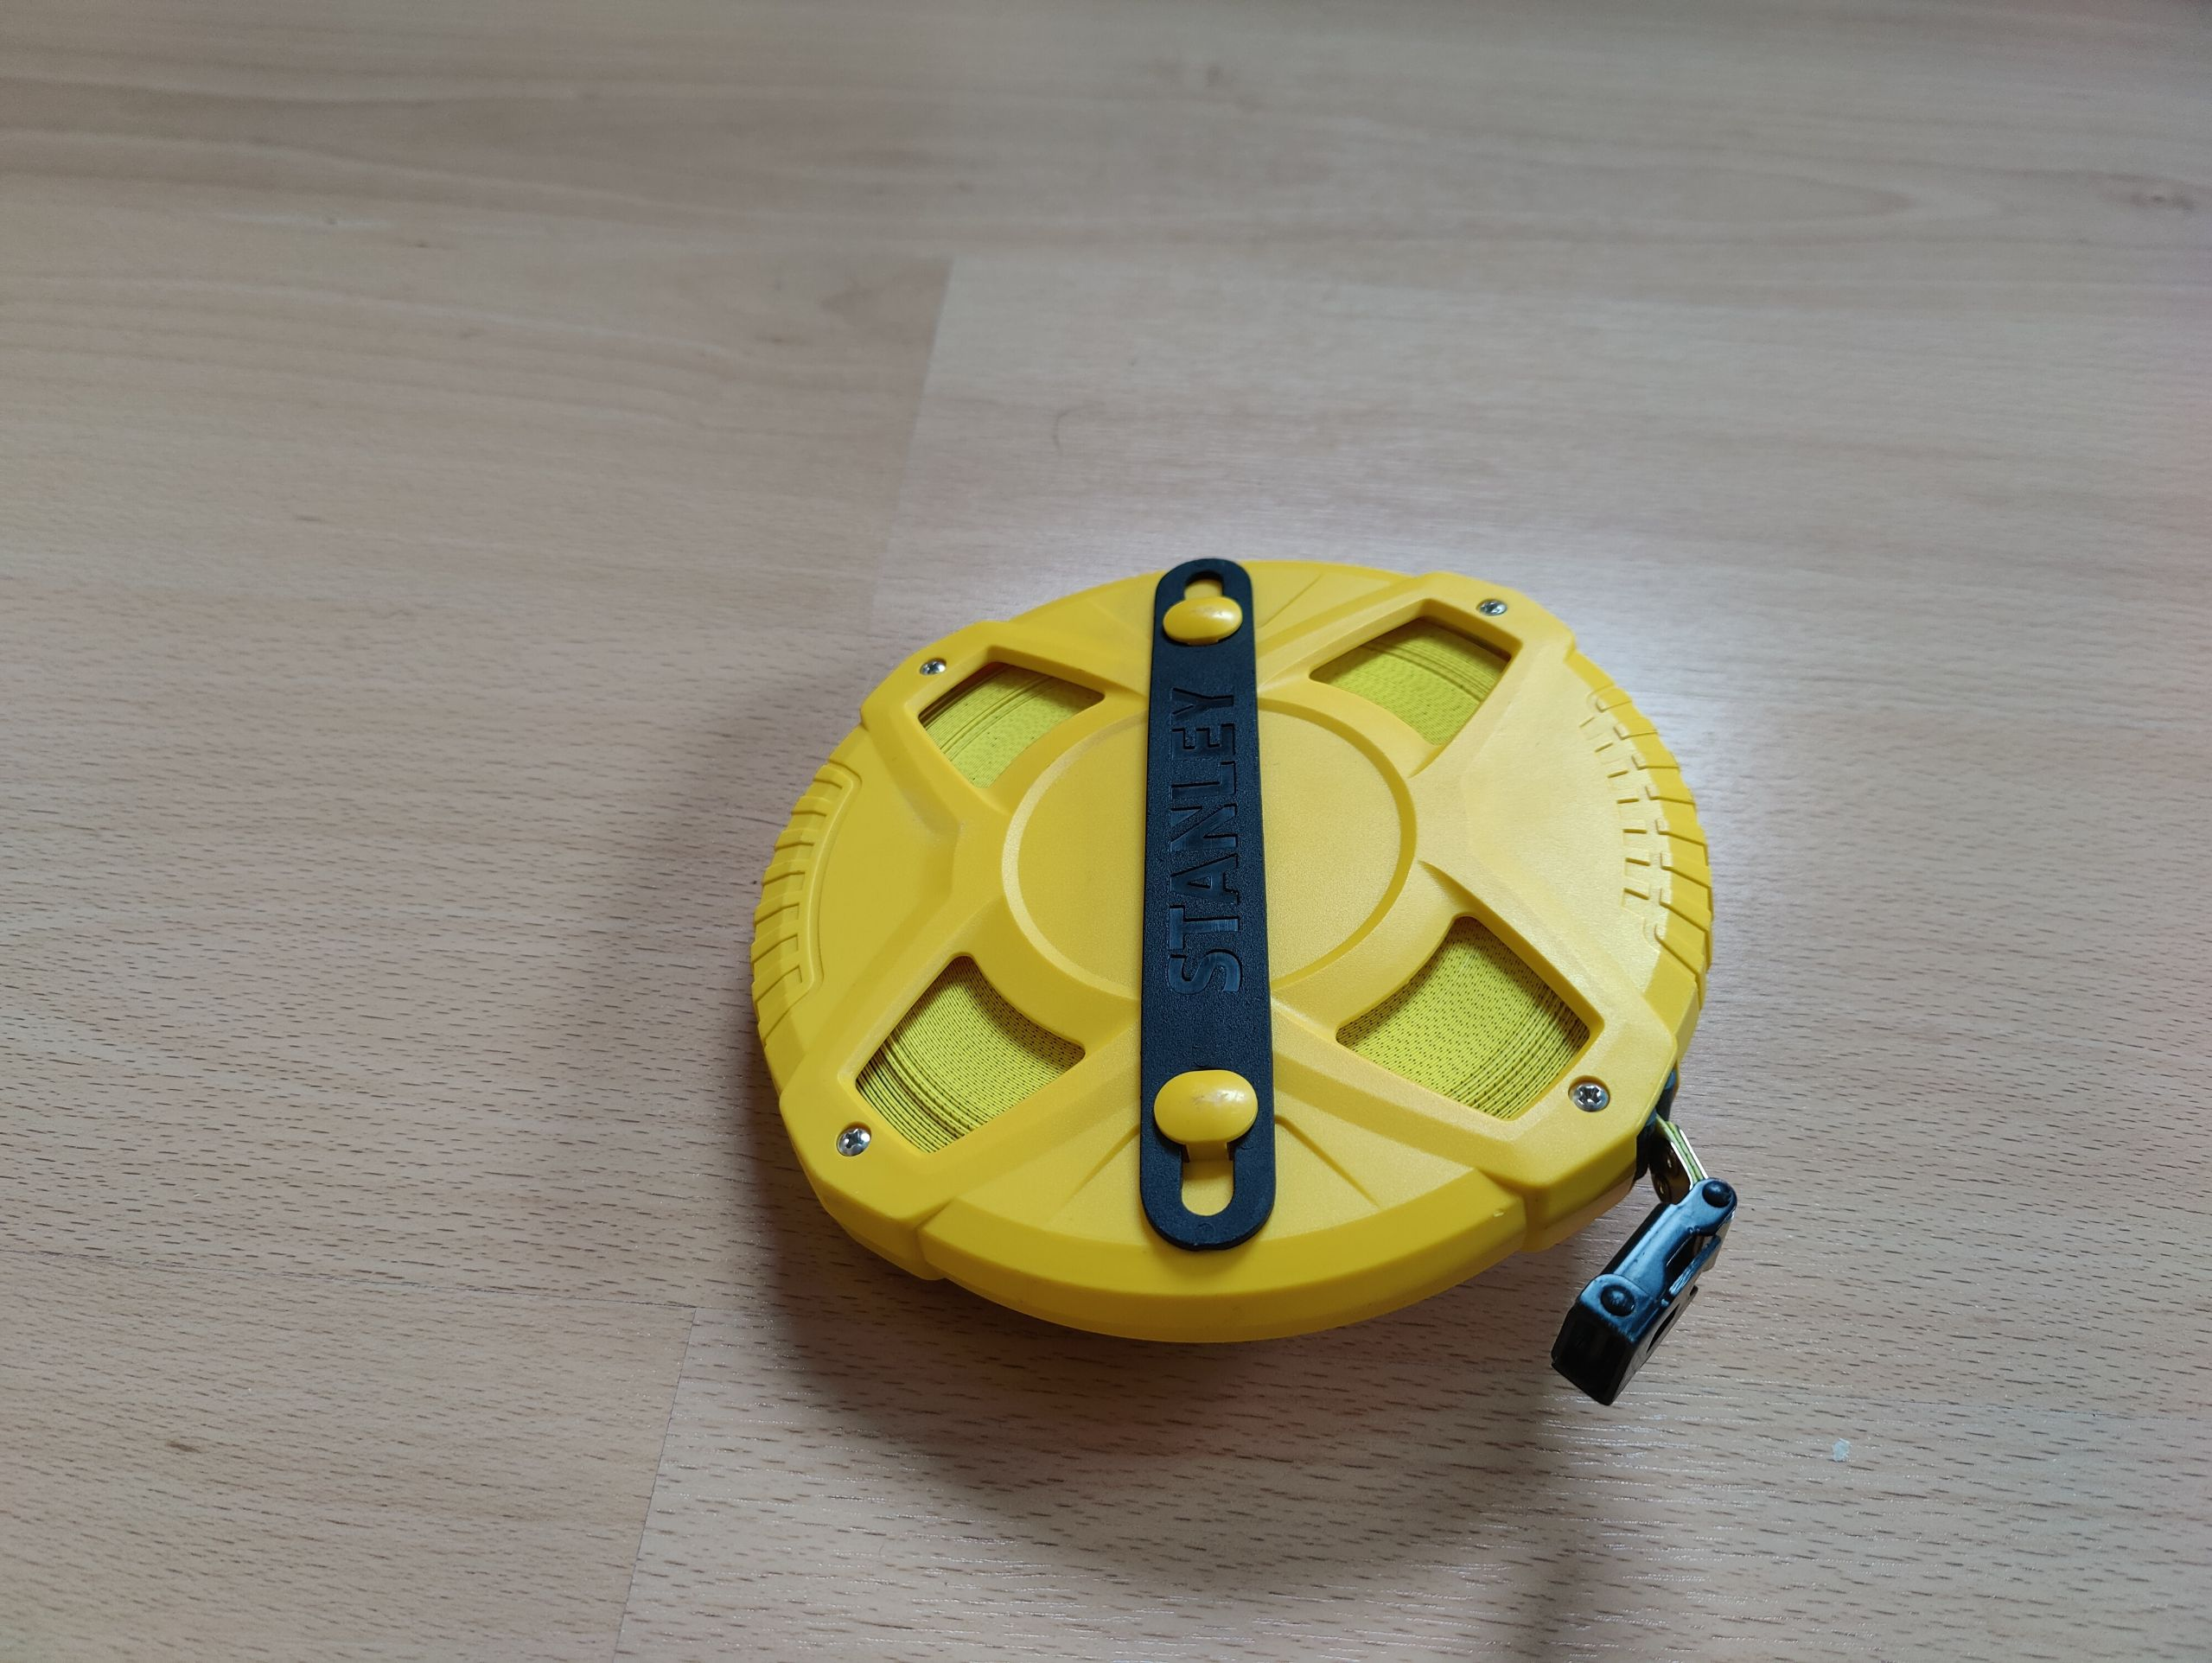tapemeasure: (737, 547, 1735, 1394)
